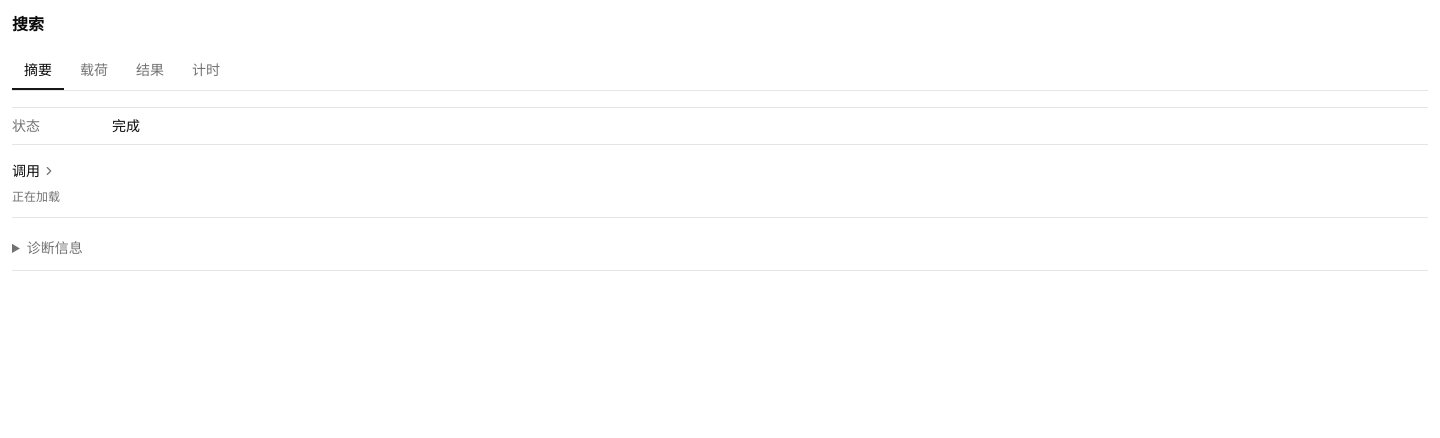
it: TrajectoryNodeDetailPanel › 历史工具摘要说明未记录完整数据，且不把截断误报为脱敏
Click the tab "结果" at (150, 71), box [124,52,176,90]
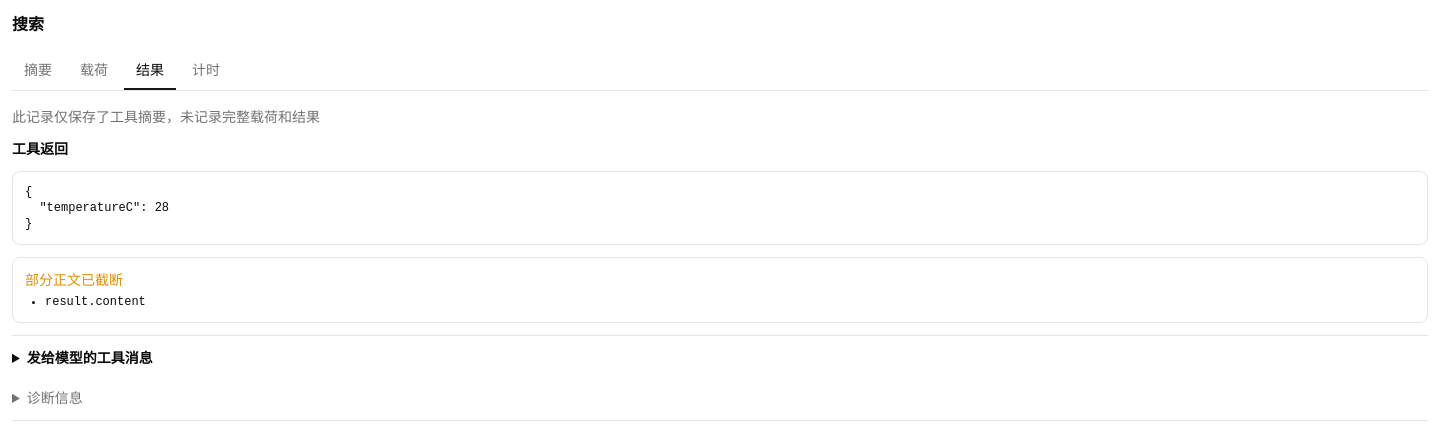
Expected: the text "此记录仅保存了工具摘要，未记录完整载荷和结果" is shown, [12,107,320,126]
Expected: the text "部分正文已截断" is shown, [25,270,123,289]
